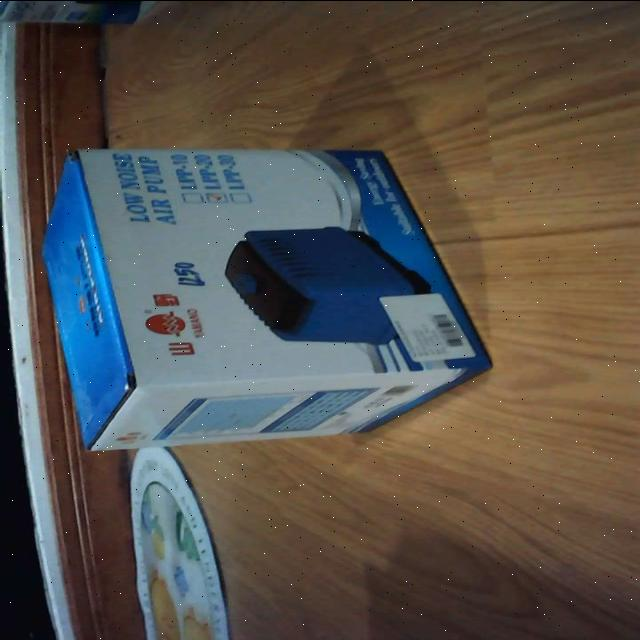YAMANO_LPP_20: (32, 126, 498, 460)
